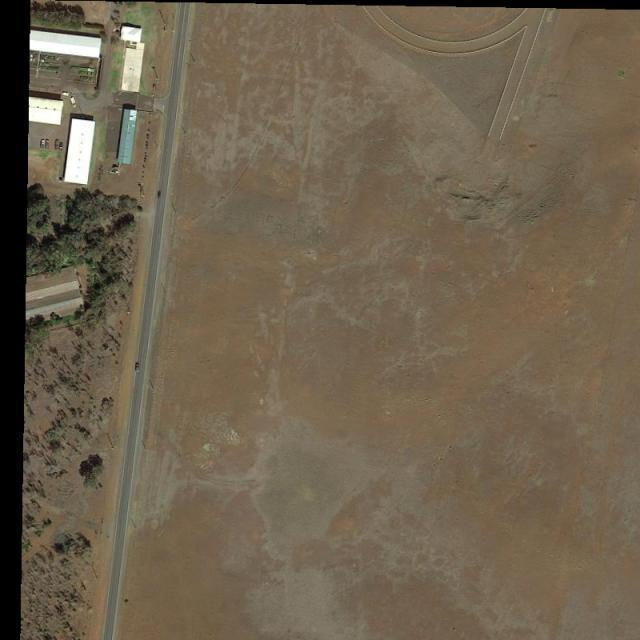vehicle: (69, 96, 78, 110), (40, 138, 46, 150), (156, 190, 162, 201), (134, 362, 140, 373), (45, 139, 50, 150), (55, 139, 59, 150), (60, 142, 64, 150)
